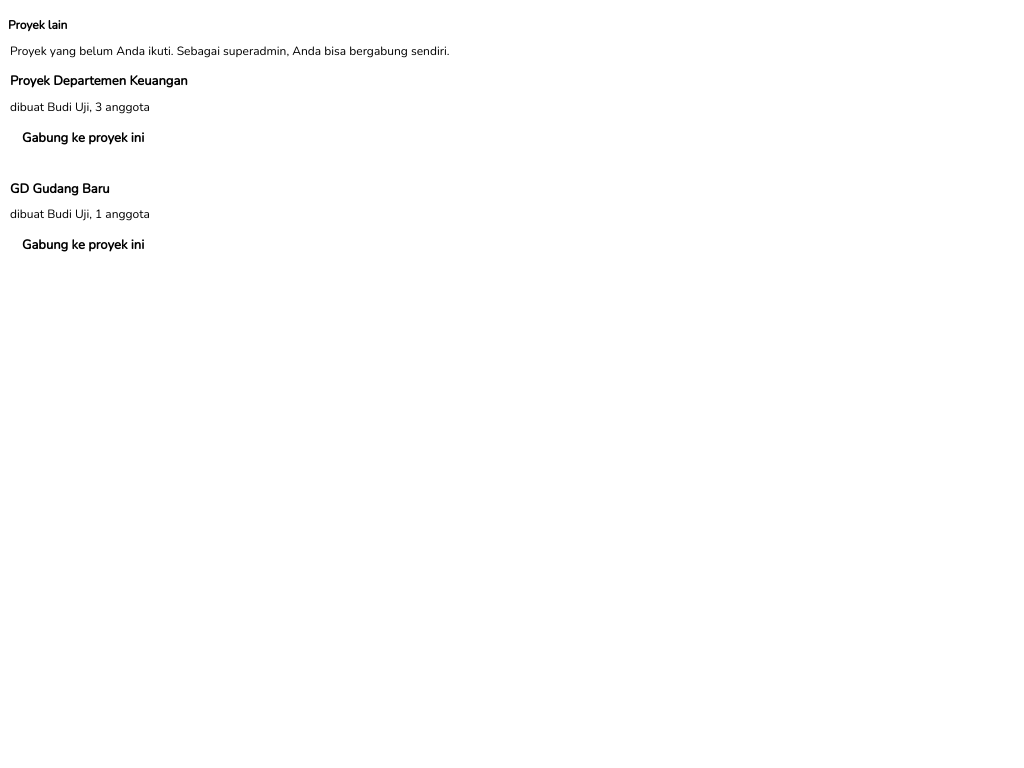
Test: Proyek lain (superadmin) › gagal bergabung: error di dialog konfirmasi
The image size is (1024, 768).
Click the button "Gabung ke proyek ini" below "GD Gudang Baru". click: (83, 246)
box: [10,229,156,263]
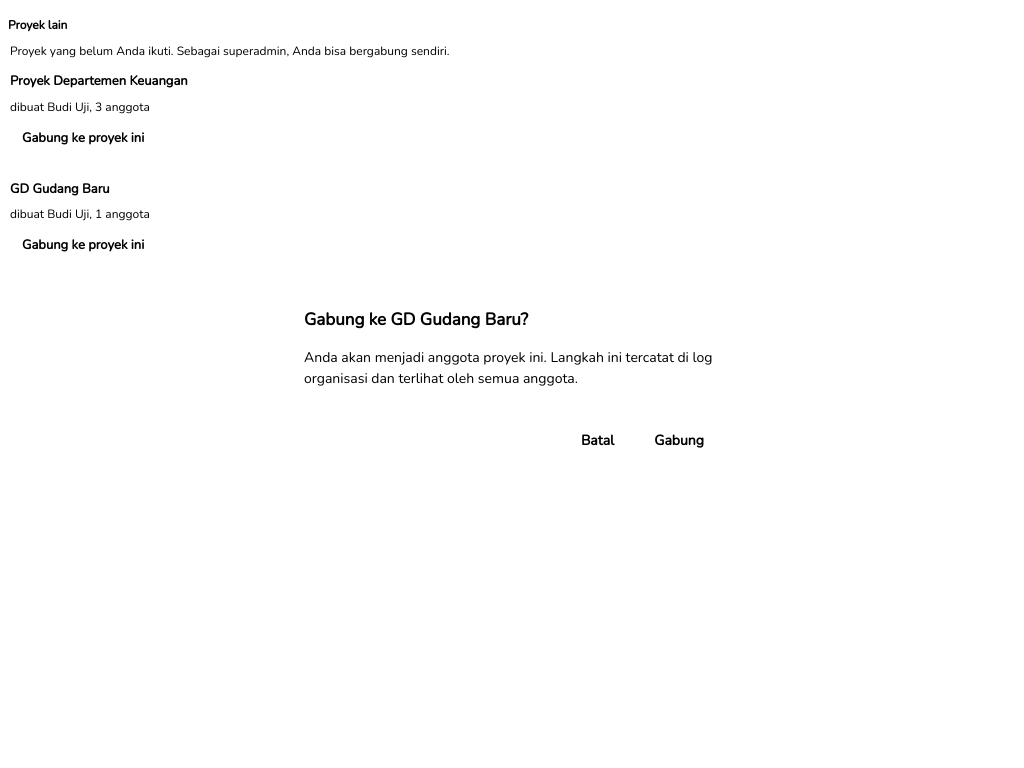
Click the button "Gabung". click: (679, 441)
box: [638,421,720,461]
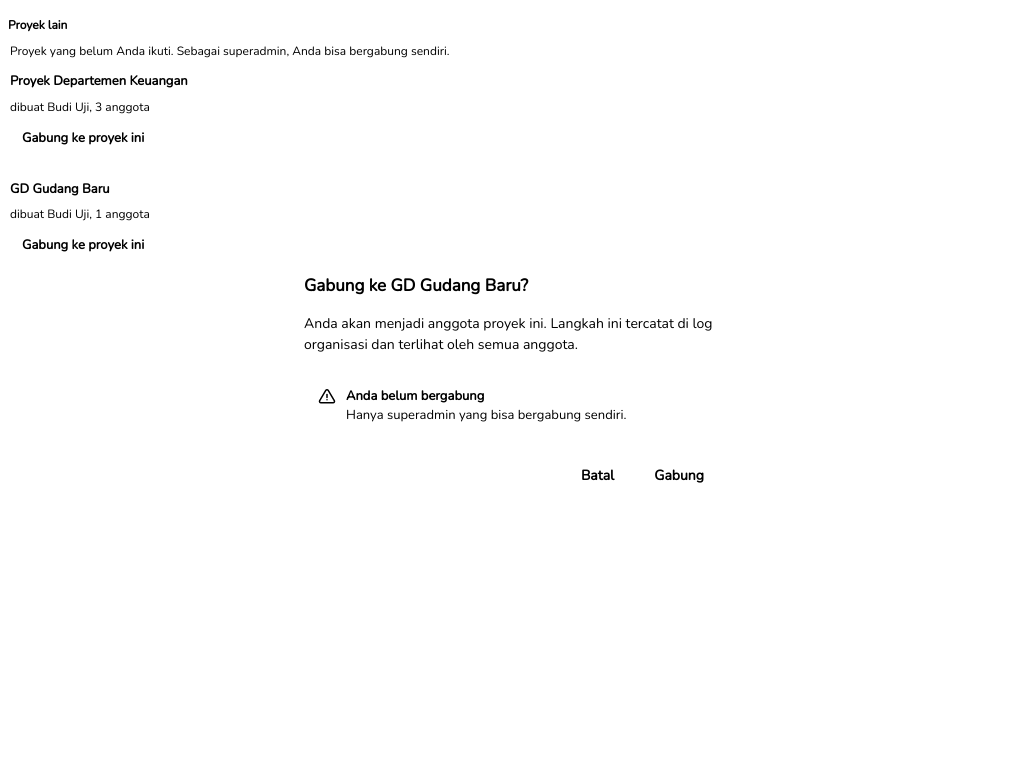
Expected: the text "Anda belum bergabung" is shown, [346,386,484,404]
Expected: the text "Hanya superadmin yang bisa bergabung sendiri." is shown, [346,406,626,425]
